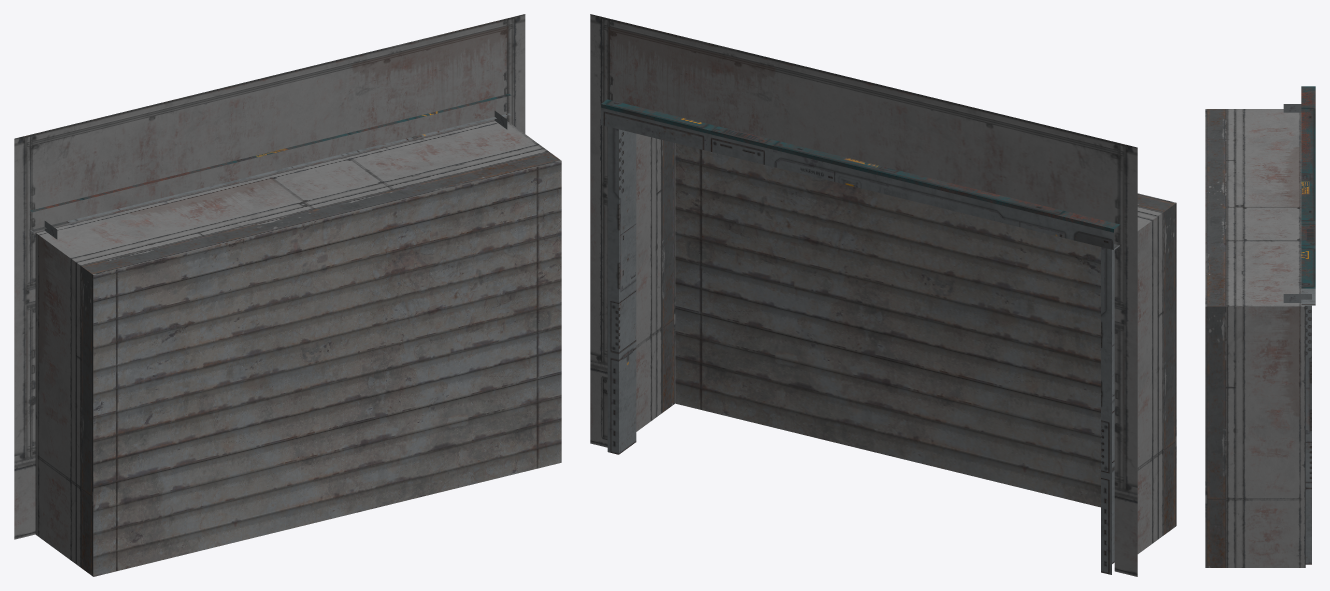
File: ARC0910222.fbx
The picture shows the model from 3 angles, left to right: view 1: azimuth 30°, elevation 25°; view 2: azimuth 150°, elevation 25°; view 3: azimuth 270°, elevation 25°; orthographic projection. The views are drawn at different scales.
Visible parts, largest first — view 1: smARC0910222; view 2: smARC0910222; view 3: smARC0910222.
Part boxes in pixels (x1,y1,x2,y2): smARC0910222: (14,14,561,576); smARC0910222: (590,14,1176,576); smARC0910222: (1205,86,1315,567).
Bounding box in the file's own units: 400 × 300 × 86.56.
1 material, 1 textured.
